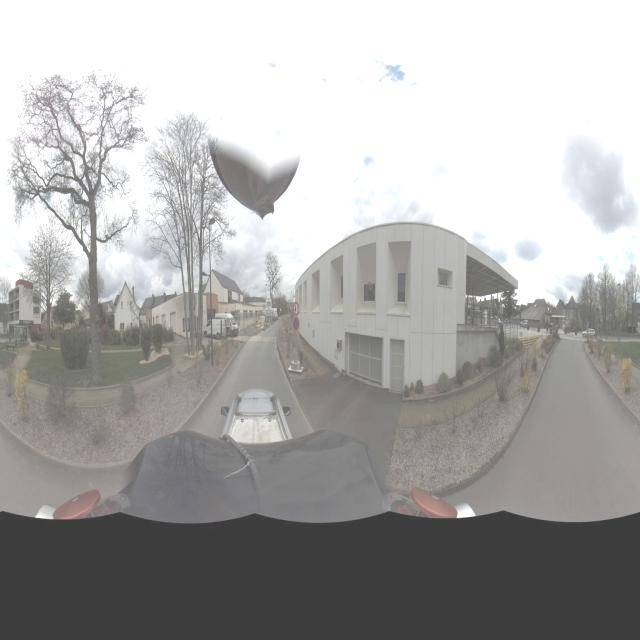car: (203, 313, 238, 338)
